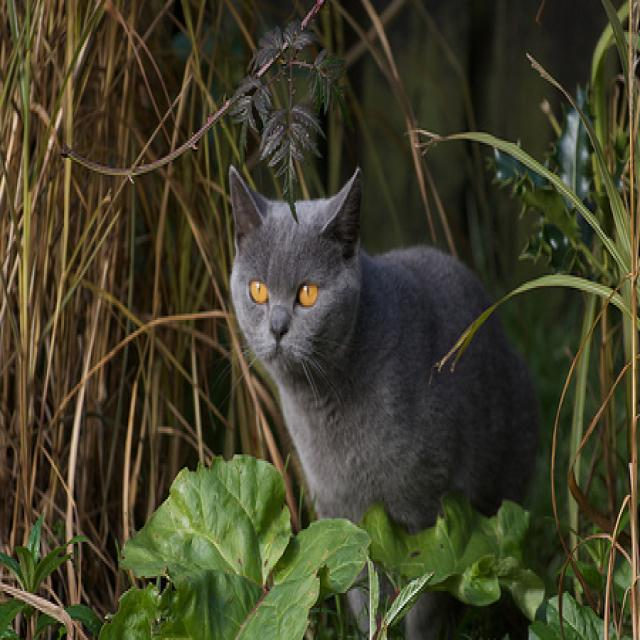British Shorthair: (225, 160, 543, 640)
